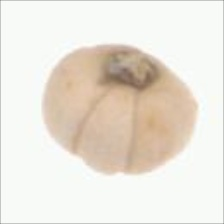L5: (68, 83, 144, 178), (95, 43, 169, 96)
L6: (38, 41, 200, 178)
